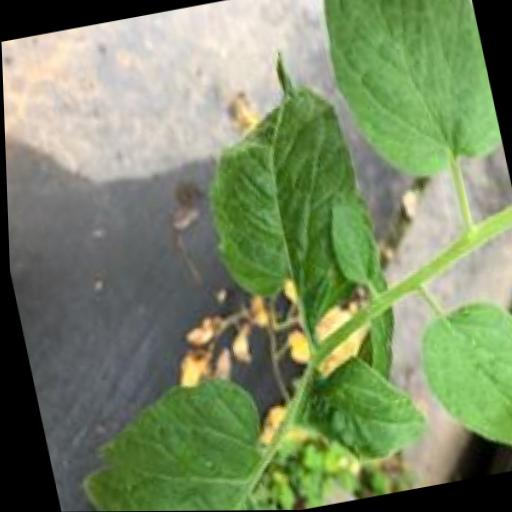Healthy: (175, 39, 378, 332), (310, 0, 506, 189), (52, 363, 282, 512), (409, 294, 512, 466)
